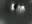person: (20, 6, 26, 16), (12, 3, 16, 13), (17, 5, 21, 15)
